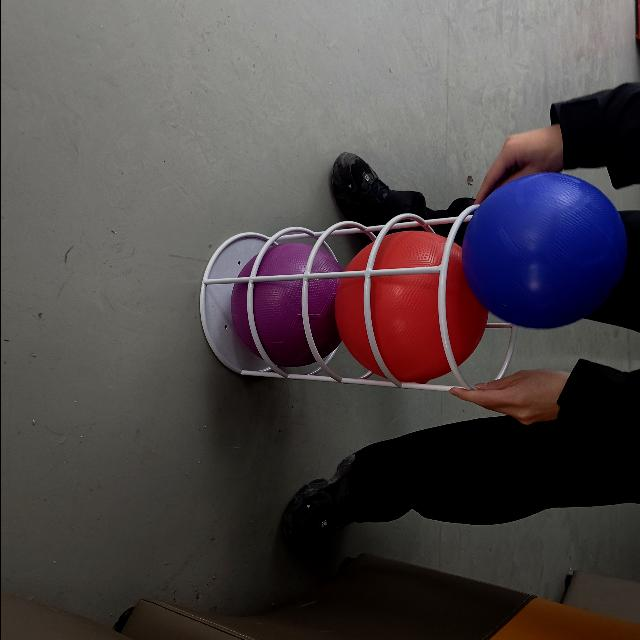B: (464, 174, 636, 336)
P: (228, 237, 340, 367)
R: (316, 200, 487, 384)
S: (199, 208, 447, 388)
